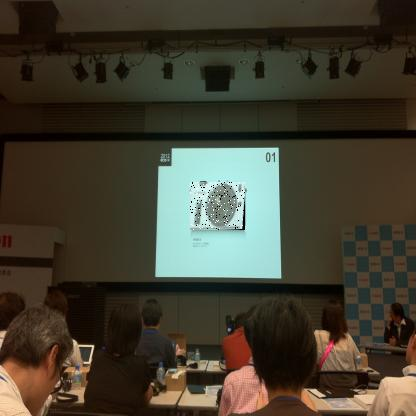Camera: (191, 183, 247, 232)
